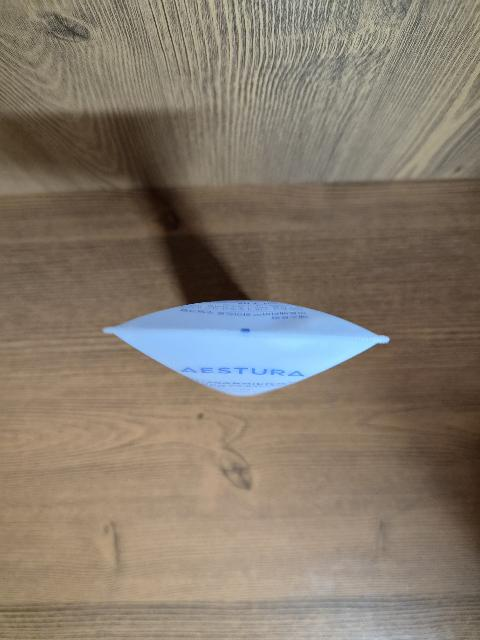handcream: (102, 301, 390, 396)
